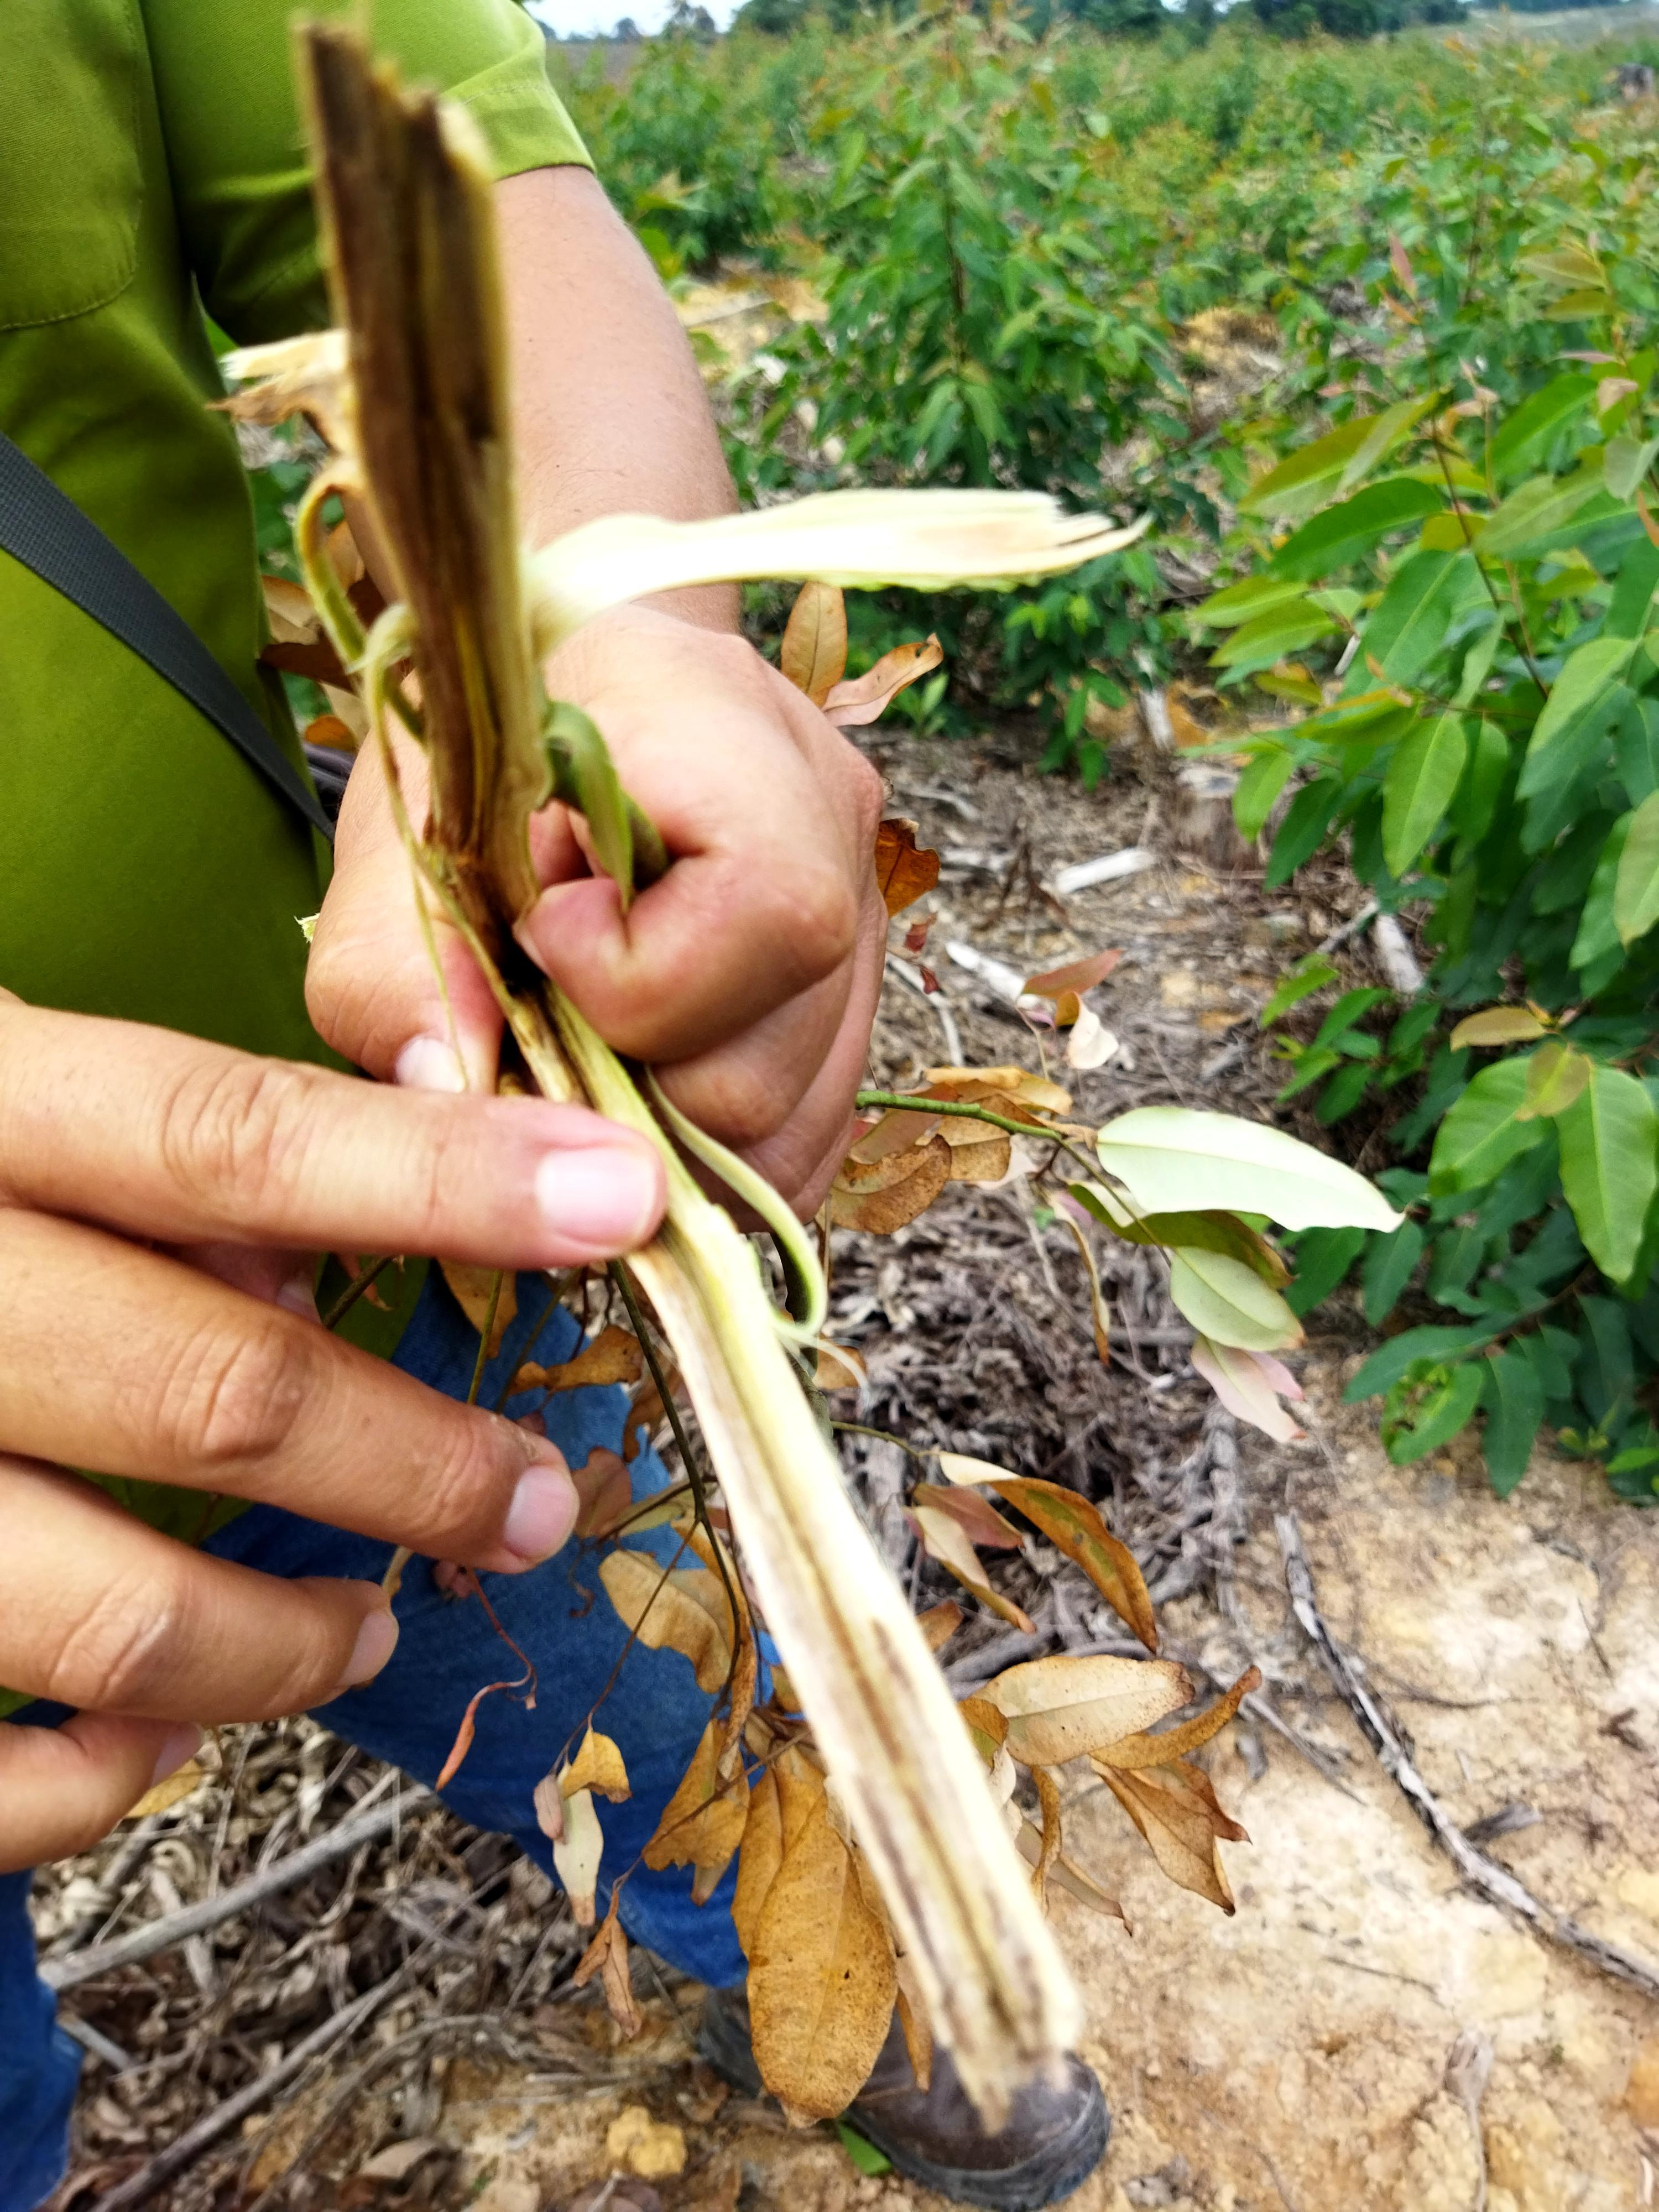Ralstonia: (311, 79, 497, 628)
